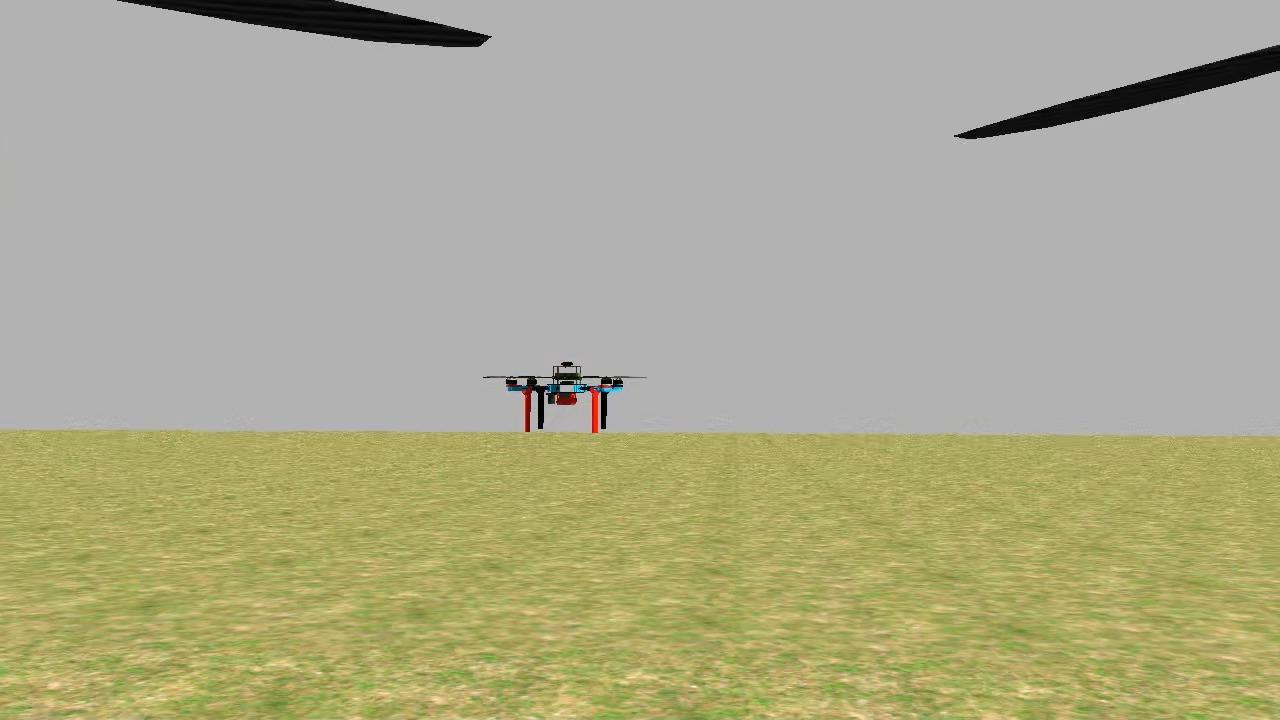UAV: (494, 353, 630, 438)
